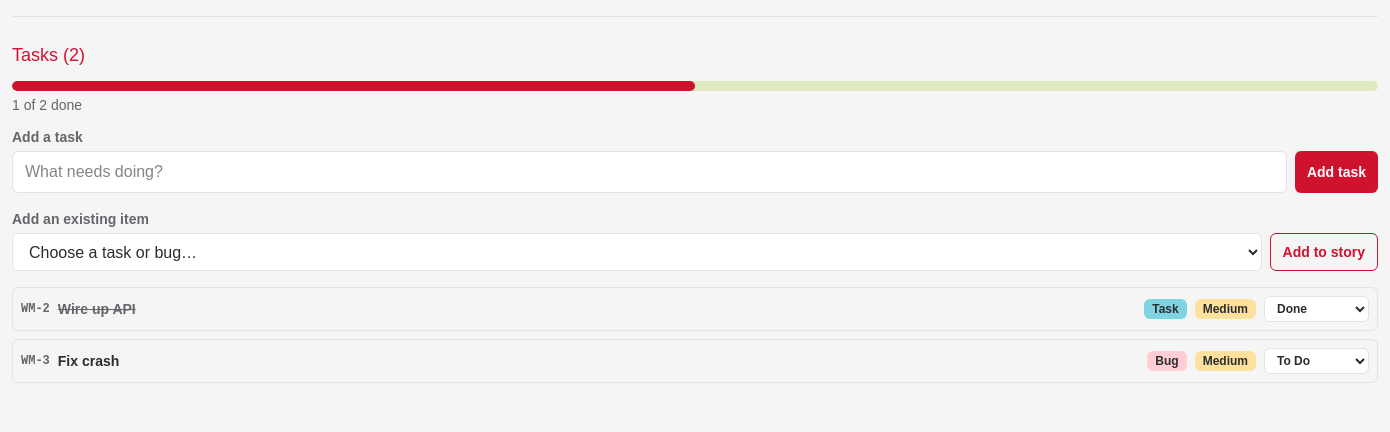
Test: StoryTasks › requires a title and shows errors from adding
Click the button "Add task" at coordinates (1336, 172), box top-left (1295, 151), bottom-right (1378, 193)
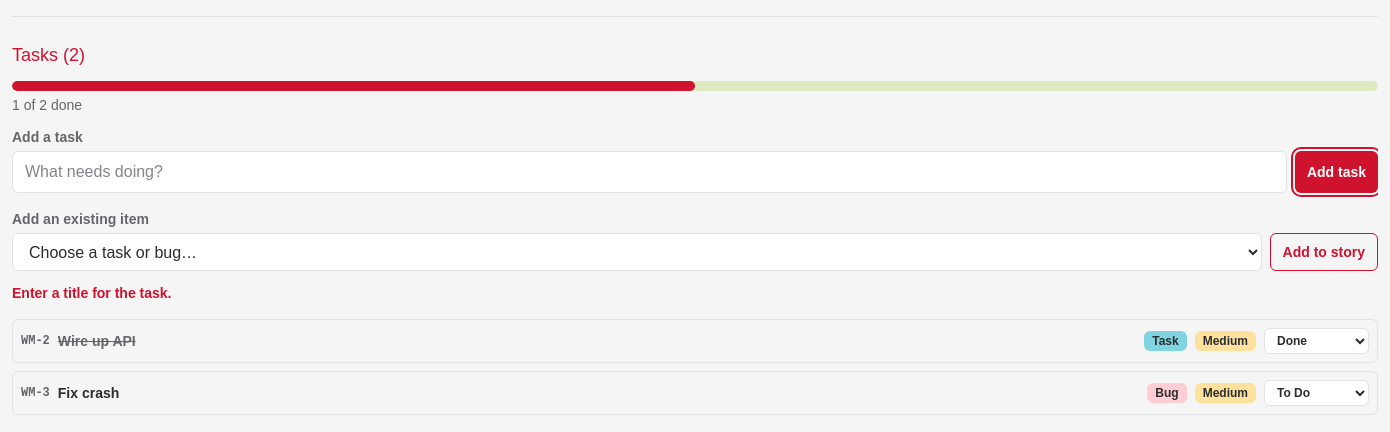
Check: the message shows "Enter a title", box top-left (12, 285), bottom-right (172, 301)
Type "x" into the field labelled "Add a task" at coordinates (649, 172), box top-left (12, 151), bottom-right (1287, 193)
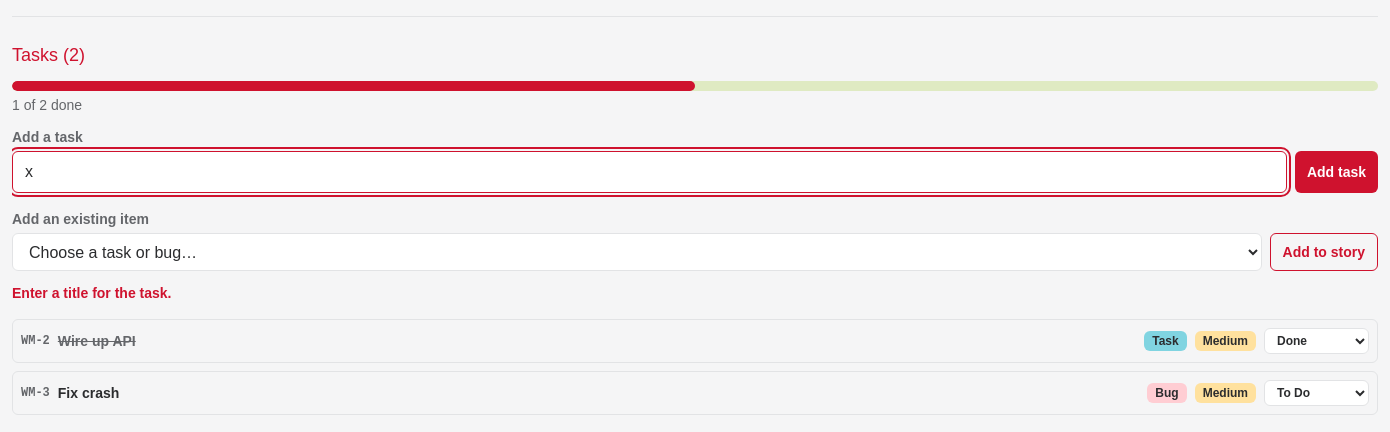
Click the button "Add task" at coordinates (1336, 172), box top-left (1295, 151), bottom-right (1378, 193)
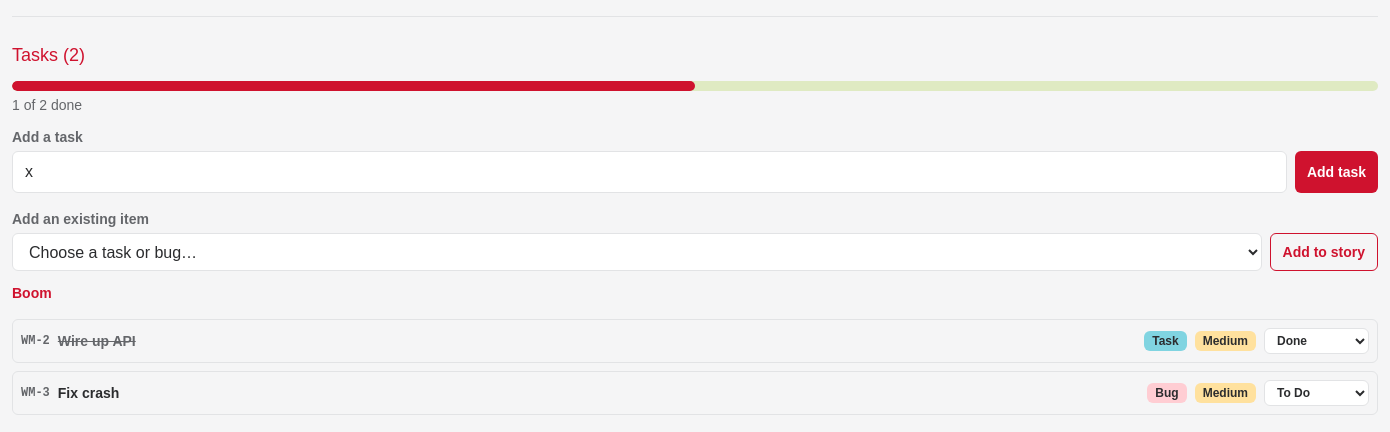
Check: the message reads "Boom", box top-left (12, 285), bottom-right (52, 301)
